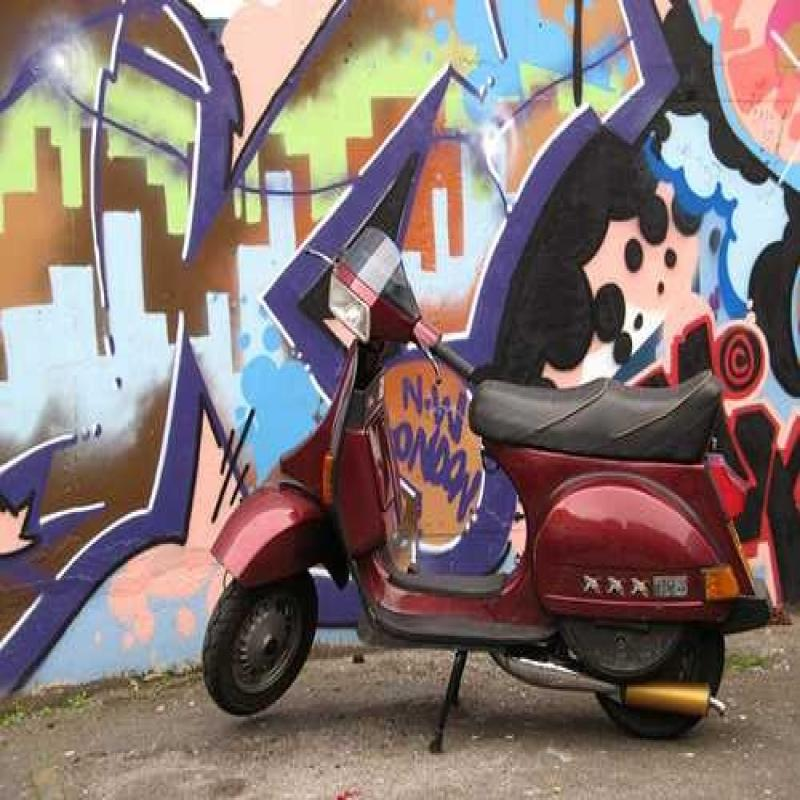bike: (142, 246, 759, 727)
